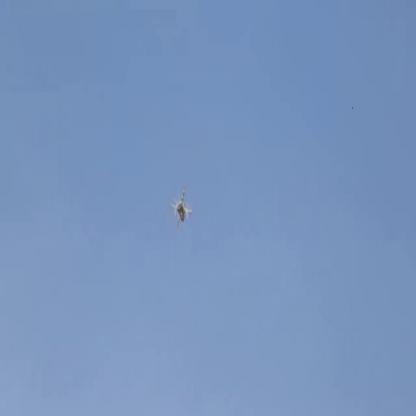drone: (164, 177, 197, 234)
